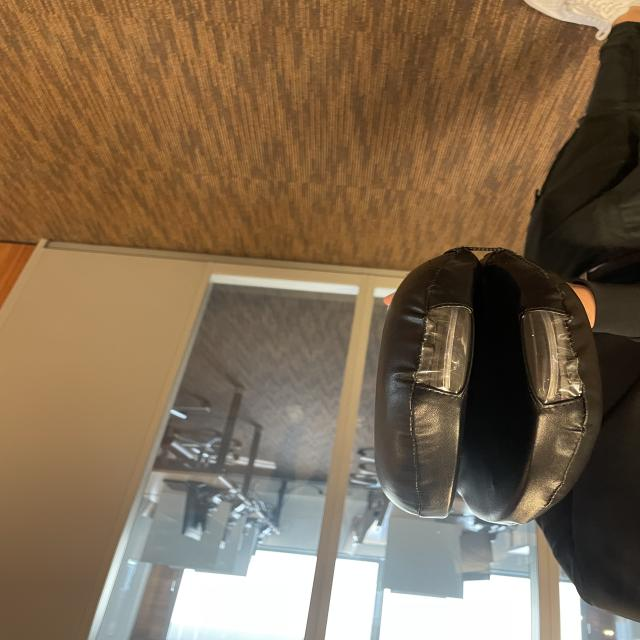paddle: (380, 251, 594, 515)
